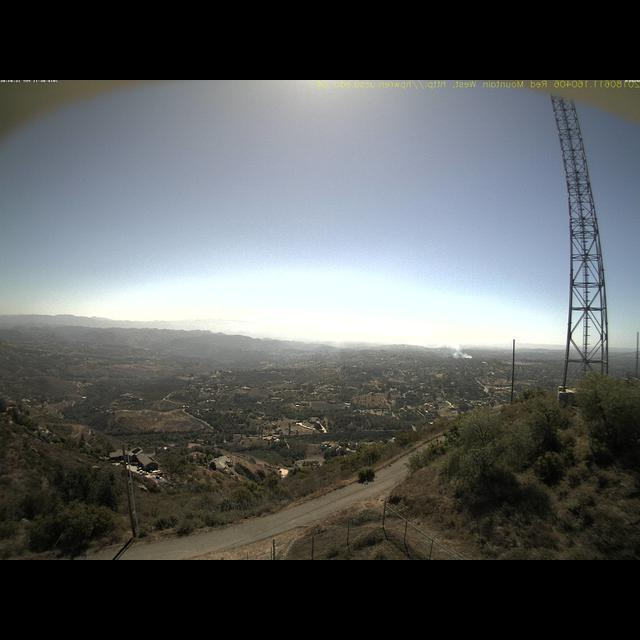Smoke: (438, 332, 477, 360)
